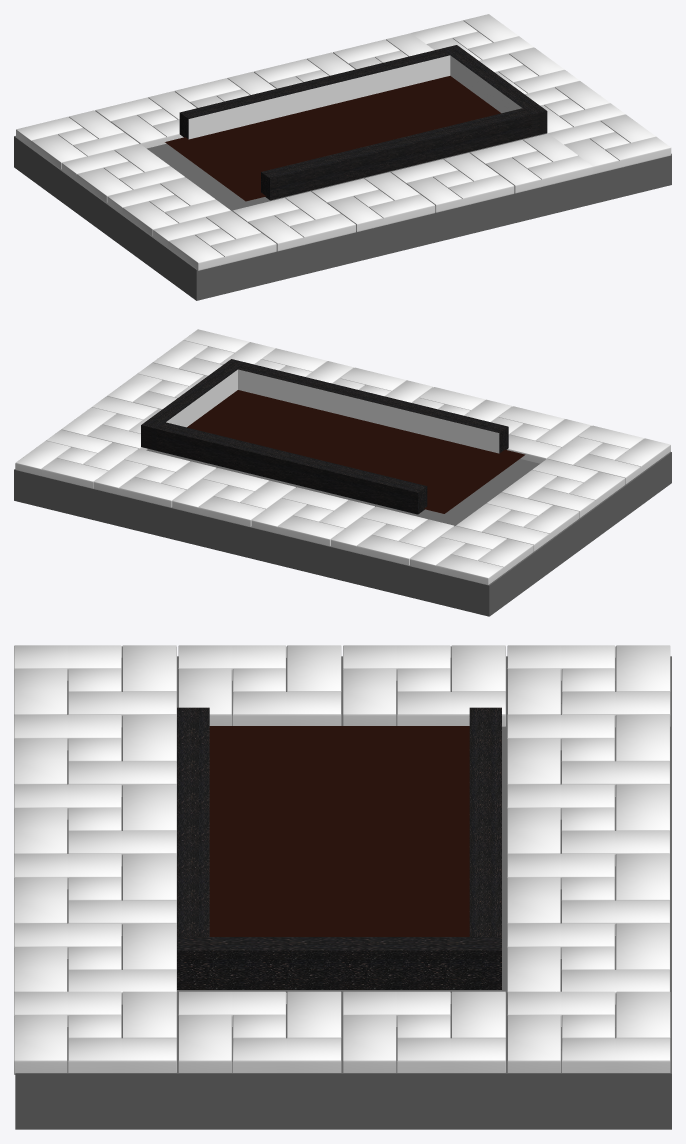
The model's file is 120-180 брусч [u_1_u].glb.
3 renders of one model, top to bottom at view 1: azimuth 30°, elevation 25°; view 2: azimuth 150°, elevation 25°; view 3: azimuth 270°, elevation 25°, orthographic. The views are drawn at different scales.
Visible parts, largest first — view 1: Плоскость.181, Плоскость.183, Плоскость.182, Plane.001, Плоскость.180, Плоскость.184, Куб.125, Куб.127, Куб.126; view 2: Плоскость.181, Плоскость.184, Плоскость.182, Plane.001, Плоскость.180, Куб.127, Плоскость.183, Куб.125, Куб.126; view 3: Plane.001, Плоскость.180, Плоскость.182, Плоскость.183, Плоскость.184, Плоскость.181, Куб.126, Куб.125, Куб.127.
Part boxes in pixels (x1,y1,x2,y2): Плоскость.181: (14, 134, 671, 300); Плоскость.183: (232, 133, 593, 251); Плоскость.182: (16, 110, 276, 270); Plane.001: (165, 76, 500, 201); Плоскость.180: (411, 14, 671, 174); Плоскость.184: (95, 33, 433, 148); Куб.125: (261, 108, 531, 200); Куб.127: (179, 49, 450, 139); Куб.126: (441, 45, 547, 136); Плоскость.181: (14, 449, 671, 616); Плоскость.184: (93, 448, 454, 565); Плоскость.182: (410, 425, 670, 584); Plane.001: (187, 390, 525, 513); Плоскость.180: (15, 329, 275, 488); Куб.127: (156, 422, 427, 514); Плоскость.183: (254, 348, 591, 463); Куб.125: (238, 363, 508, 453); Куб.126: (141, 359, 246, 450); Plane.001: (209, 726, 469, 936); Плоскость.180: (14, 991, 670, 1074); Плоскость.182: (14, 645, 670, 726); Плоскость.183: (14, 715, 176, 1004); Плоскость.184: (507, 715, 669, 1004); Плоскость.181: (15, 656, 671, 1129); Куб.126: (177, 937, 501, 989); Куб.125: (177, 707, 209, 936); Куб.127: (469, 707, 501, 936).
Size of the model in its own units: 1.82 by 0.2212 by 1.21.
Materials: 5 (1 with a texture image).
